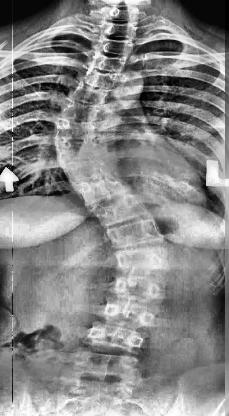Vertebrae: (70, 348, 130, 378), (110, 219, 168, 249), (78, 174, 130, 206), (102, 301, 158, 329), (85, 322, 139, 350), (116, 276, 170, 304), (100, 196, 146, 226), (120, 248, 170, 274), (63, 161, 121, 182), (56, 122, 102, 144), (59, 142, 109, 161), (63, 102, 102, 124), (92, 53, 128, 71), (85, 70, 121, 88), (74, 87, 108, 105)
